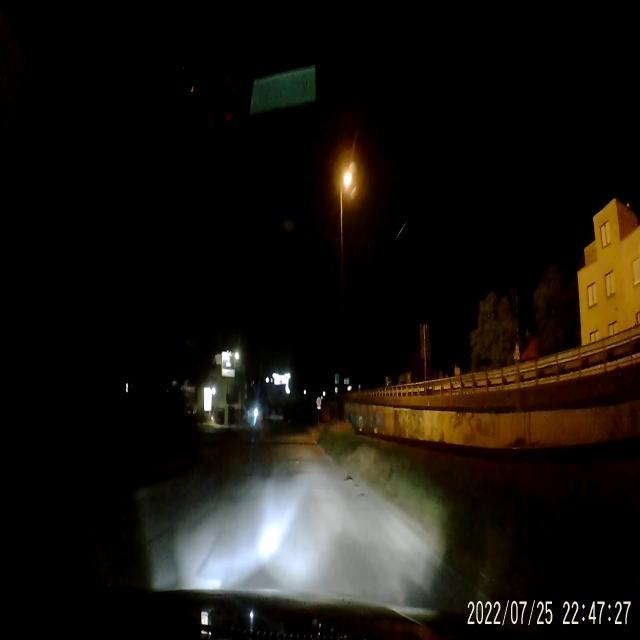Pothole: (345, 476, 353, 482), (359, 492, 365, 497), (354, 484, 358, 487)
